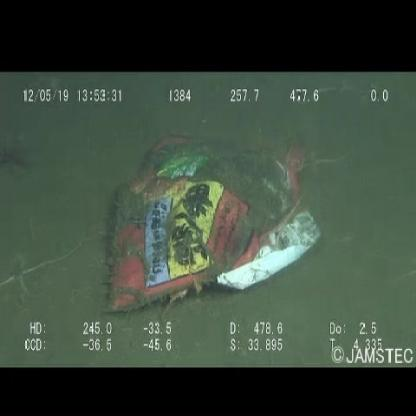Rác: (100, 126, 326, 315)
